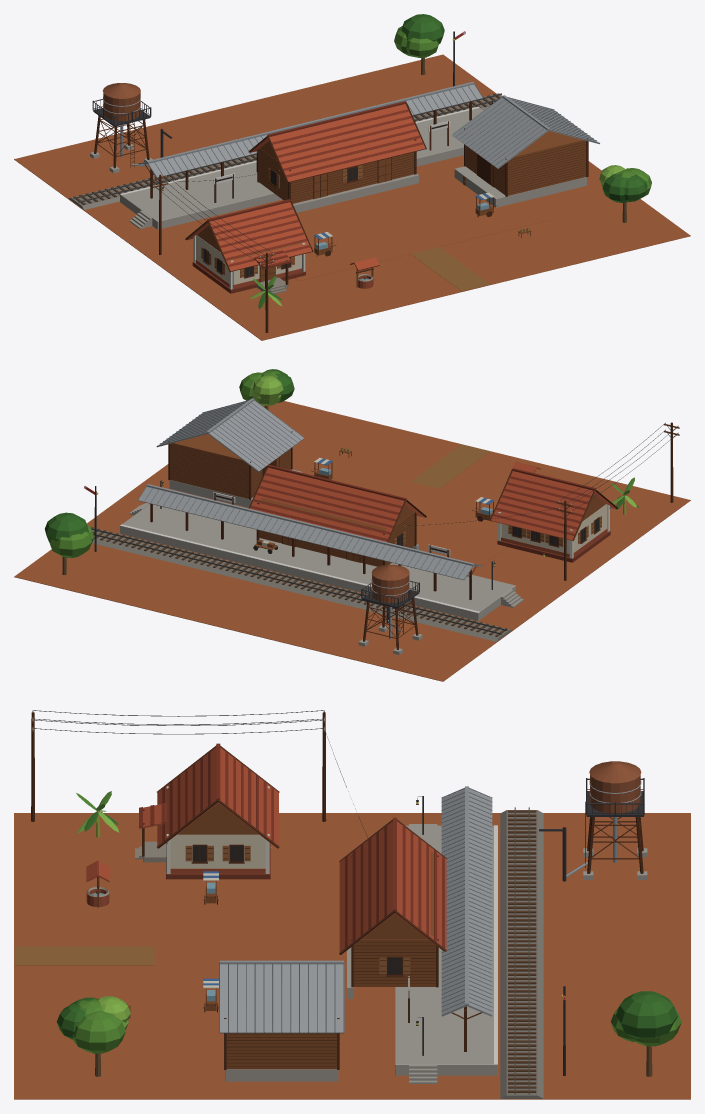
File: station.glb
3 renders of one model, top to bottom at view 1: azimuth 30°, elevation 25°; view 2: azimuth 150°, elevation 25°; view 3: azimuth 270°, elevation 25°, orthographic. The views are drawn at different scales.
Visible parts, largest first — view 1: body; view 2: body; view 3: body, windows.
Part boxes in pixels (left/top/right/bottom): body: left=14, top=14, right=690, bottom=340; body: left=14, top=369, right=690, bottom=681; body: left=14, top=710, right=690, bottom=1099; windows: left=193, top=802, right=563, bottom=1025.
Size of the model in its own units: 47.9 by 8.82 by 47.9.
